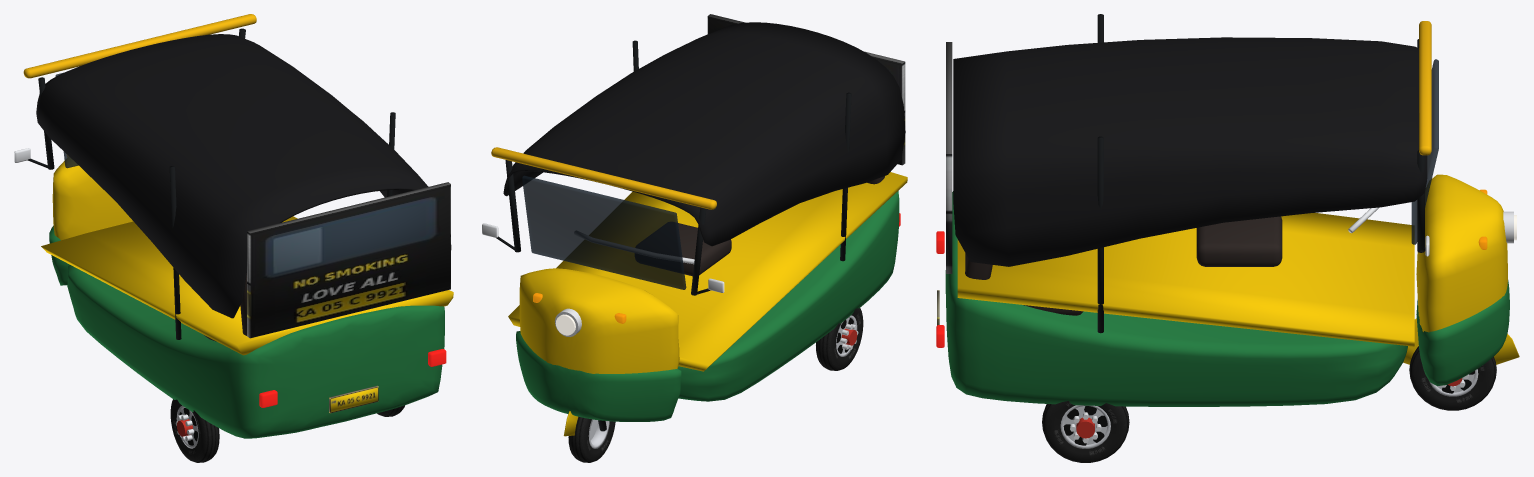
Rendered from auto.glb.
3 renders of one model, left to right at view 1: azimuth 30°, elevation 25°; view 2: azimuth 150°, elevation 25°; view 3: azimuth 270°, elevation 25°, orthographic. The views are drawn at different scales.
Parts seen in each view (by area): view 1: auto_Canvas, auto_AutoGreen, auto_Parts, auto_AutoYellow, auto_Tyre, auto_Lamps; view 2: auto_Canvas, auto_AutoYellow, auto_AutoGreen, auto_Glass, auto_Parts, auto_Tyre, auto_Lamps; view 3: auto_Canvas, auto_AutoYellow, auto_AutoGreen, auto_Parts, auto_Tyre, auto_Glass, auto_Lamps.
Part boxes in pixels (x1=…): auto_Canvas: x1=36, y1=34, x2=451, y2=318; auto_AutoGreen: x1=49, y1=225, x2=444, y2=438; auto_Parts: x1=14, y1=14, x2=450, y2=448; auto_AutoYellow: x1=41, y1=157, x2=453, y2=355; auto_Tyre: x1=170, y1=399, x2=404, y2=462; auto_Lamps: x1=67, y1=155, x2=446, y2=407; auto_Canvas: x1=503, y1=22, x2=905, y2=246; auto_AutoYellow: x1=508, y1=172, x2=907, y2=436; auto_AutoGreen: x1=516, y1=191, x2=899, y2=421; auto_Glass: x1=522, y1=175, x2=686, y2=289; auto_Parts: x1=482, y1=14, x2=905, y2=448; auto_Tyre: x1=568, y1=308, x2=863, y2=462; auto_Lamps: x1=533, y1=213, x2=900, y2=335; auto_Canvas: x1=953, y1=37, x2=1427, y2=266; auto_AutoYellow: x1=957, y1=174, x2=1519, y2=364; auto_AutoGreen: x1=945, y1=191, x2=1509, y2=406; auto_Parts: x1=937, y1=14, x2=1513, y2=448; auto_Tyre: x1=1042, y1=346, x2=1496, y2=462; auto_Glass: x1=1411, y1=59, x2=1438, y2=244; auto_Lamps: x1=936, y1=189, x2=1516, y2=347.
Size of the model in its own units: 1.54 by 1.74 by 2.73.
Materials: 7 (3 with a texture image).
